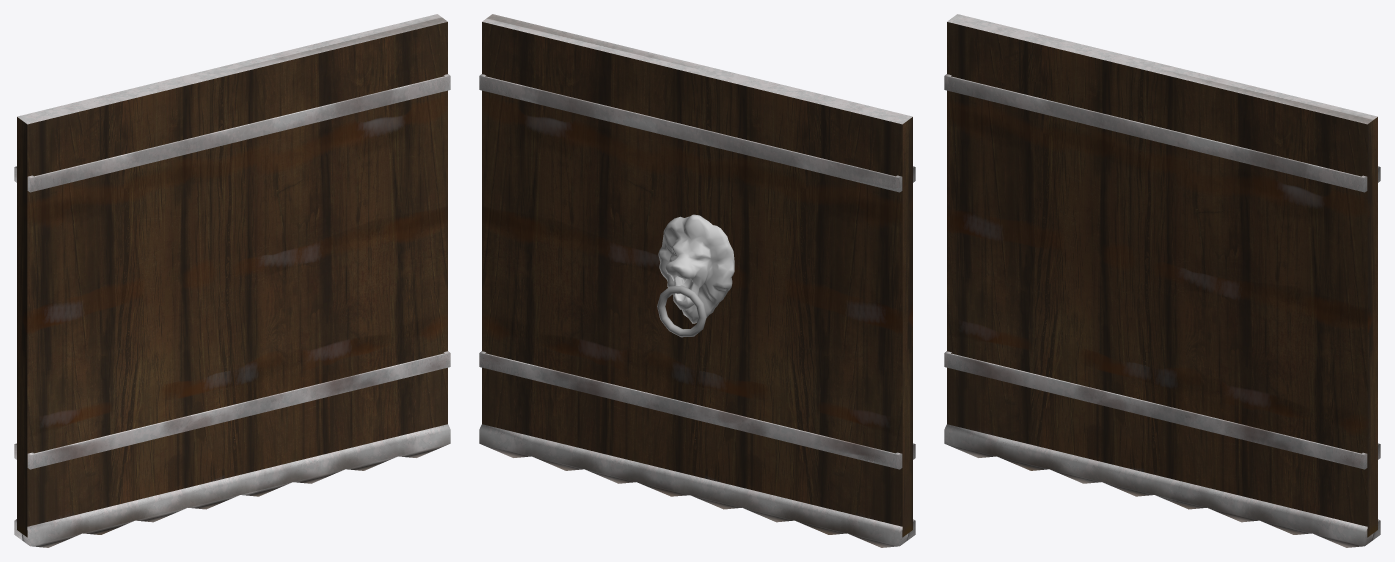
Rendered from door_lion.fbx.
The picture shows the model from 3 angles, left to right: view 1: azimuth 30°, elevation 25°; view 2: azimuth 150°, elevation 25°; view 3: azimuth 330°, elevation 25°; orthographic projection.
Parts seen in each view (by area): view 1: Torus002; view 2: Torus002, decimation1:Group58911; view 3: Torus002.
Boxes of the visible parts, x1,y1,x2,y2 form: Torus002: (14,14,450,547); Torus002: (479,14,915,547); decimation1:Group58911: (658,214,734,323); Torus002: (944,14,1380,547).
Size of the model in its own units: 55.58 by 54.78 by 8.38.
